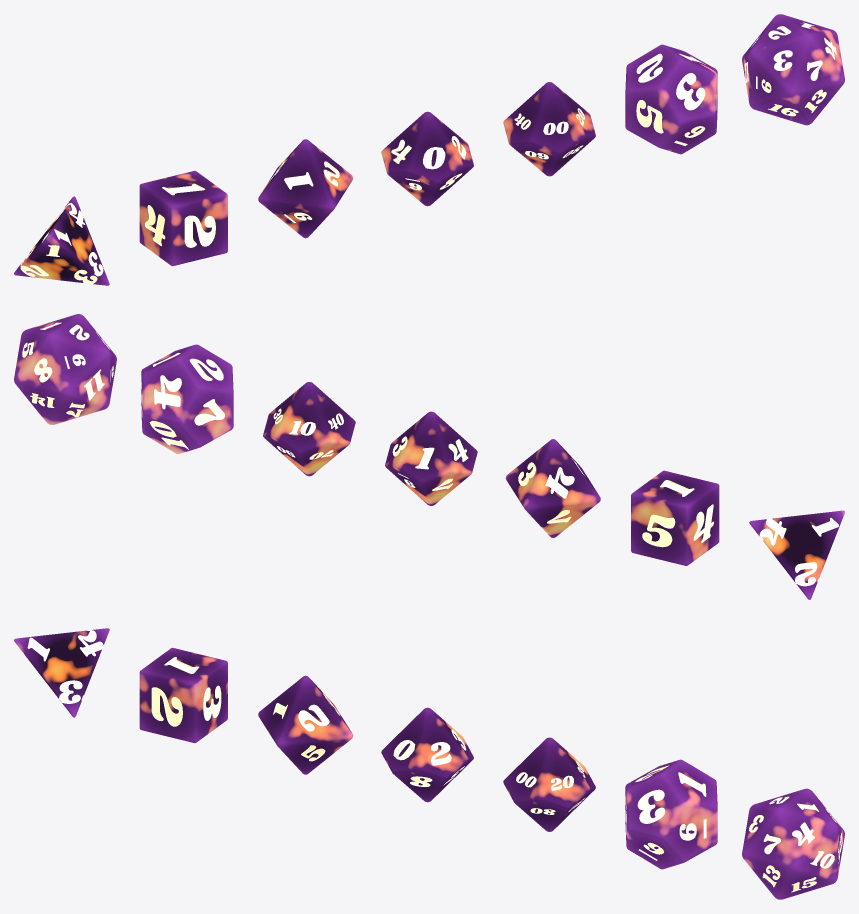
The model's file is lava-lamp.glb.
3 views of the same model, one above another, from view 1: azimuth 30°, elevation 25°; view 2: azimuth 150°, elevation 25°; view 3: azimuth 330°, elevation 25° (orthographic).
Parts seen in each view (by area): view 1: d20, d12, d6, d100, d10, d8, d4; view 2: d20, d12, d6, d100, d10, d8, d4; view 3: d20, d12, d6, d8, d10, d100, d4.
Part boxes in pixels (x1,y1,x2,y2): d20: [742, 14, 844, 125]; d12: [625, 44, 717, 154]; d6: [139, 171, 227, 266]; d100: [503, 82, 595, 176]; d10: [381, 111, 473, 206]; d8: [258, 139, 353, 238]; d4: [14, 196, 109, 285]; d20: [14, 314, 116, 424]; d12: [141, 344, 233, 453]; d6: [631, 470, 719, 565]; d100: [263, 382, 355, 476]; d10: [385, 411, 477, 505]; d8: [505, 439, 600, 537]; d4: [749, 510, 844, 599]; d20: [742, 788, 844, 899]; d12: [625, 759, 717, 869]; d6: [139, 647, 227, 742]; d8: [258, 675, 353, 774]; d10: [381, 707, 473, 802]; d100: [503, 737, 595, 831]; d4: [14, 628, 109, 717].
Size of the model in its own units: 21.14 by 2.47 by 2.47.
14 materials, 7 textured.
